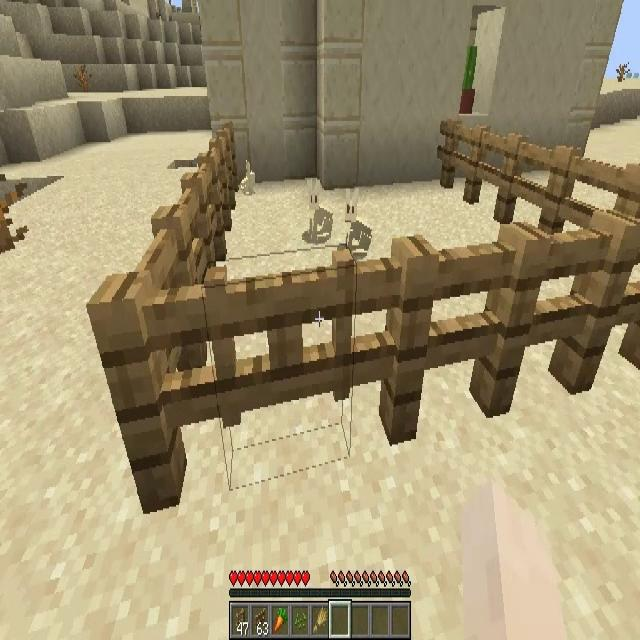rabbit: (346, 188, 372, 255), (308, 179, 332, 239), (240, 158, 255, 195)
